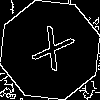X: (25, 25, 76, 81)
